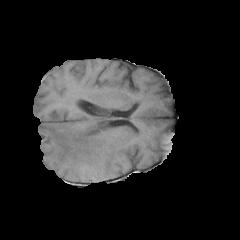glioma: (38, 120, 125, 181)
